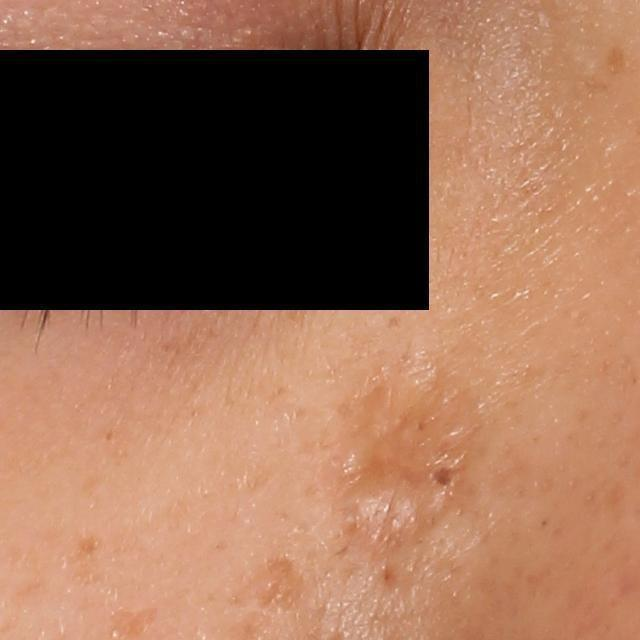other: (321, 358, 492, 563)
